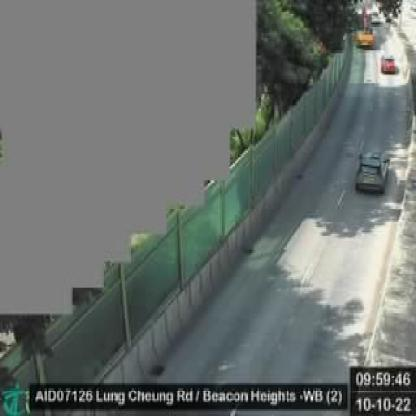Car: (355, 150, 388, 192), (382, 55, 398, 74)
